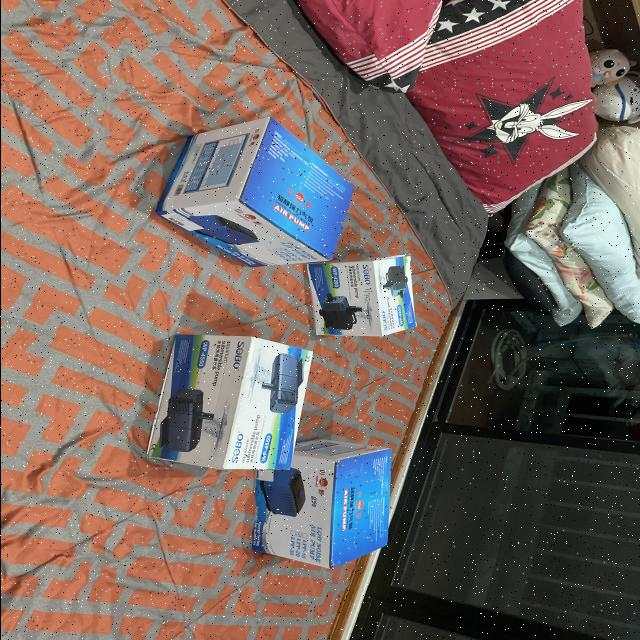SOBO_WP_4200: (127, 334, 320, 478), (296, 254, 425, 351)
YAMANO_LPP_20: (148, 116, 367, 272), (247, 426, 410, 578)
